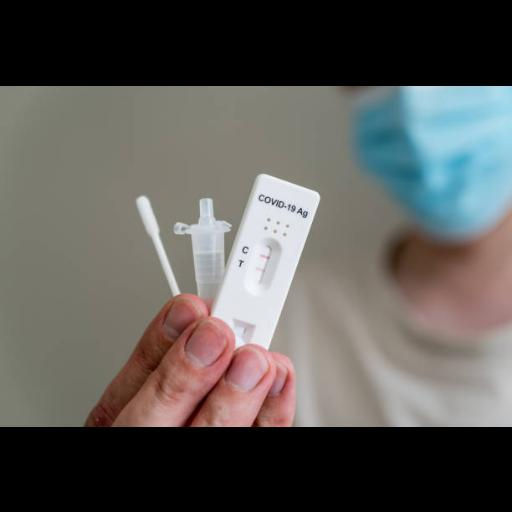Pos: (206, 173, 321, 353)
